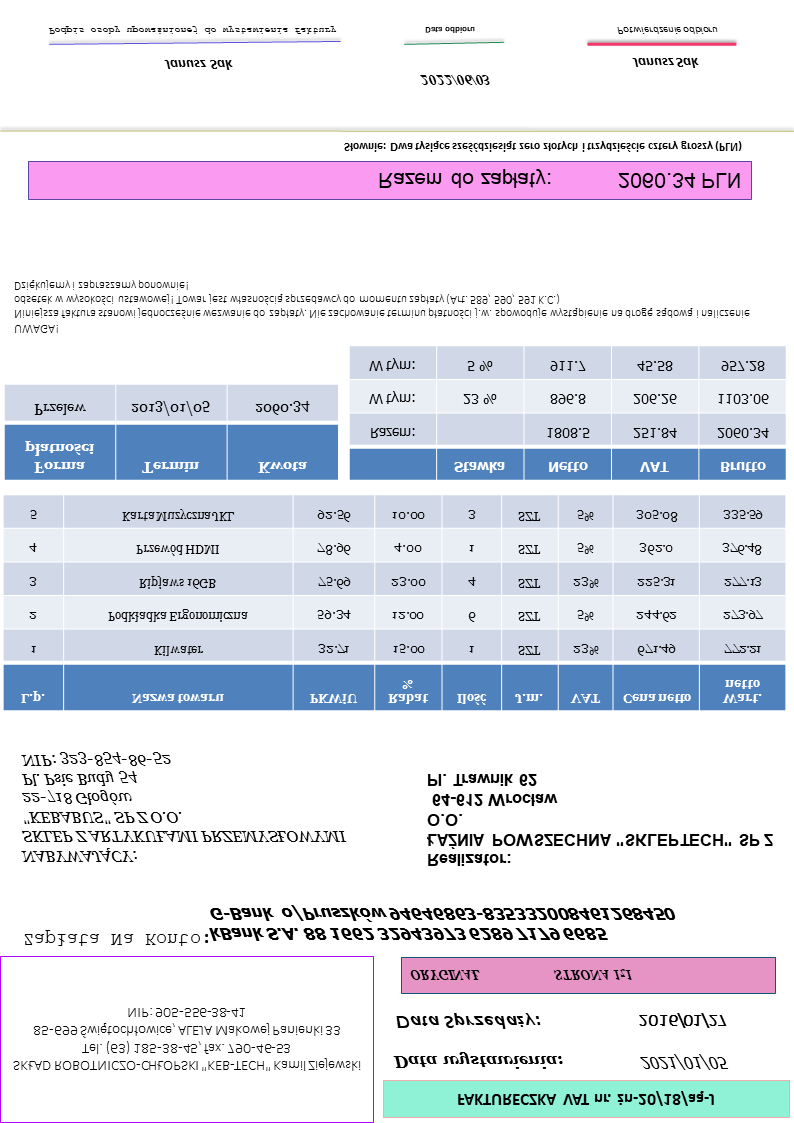Table: (1, 492, 787, 714), (348, 343, 789, 482), (3, 384, 338, 483)
TextBox: (12, 278, 753, 337), (19, 747, 350, 867), (423, 766, 779, 868), (10, 999, 365, 1077), (208, 904, 679, 942), (376, 168, 742, 192), (341, 138, 746, 155), (453, 1088, 717, 1112), (391, 1046, 563, 1073), (408, 964, 636, 984), (44, 23, 338, 36), (21, 929, 211, 949), (391, 1009, 543, 1032), (638, 1050, 730, 1074), (636, 1011, 728, 1032), (160, 54, 235, 75), (614, 24, 721, 36), (417, 72, 493, 88), (629, 55, 701, 70), (421, 23, 479, 36)
